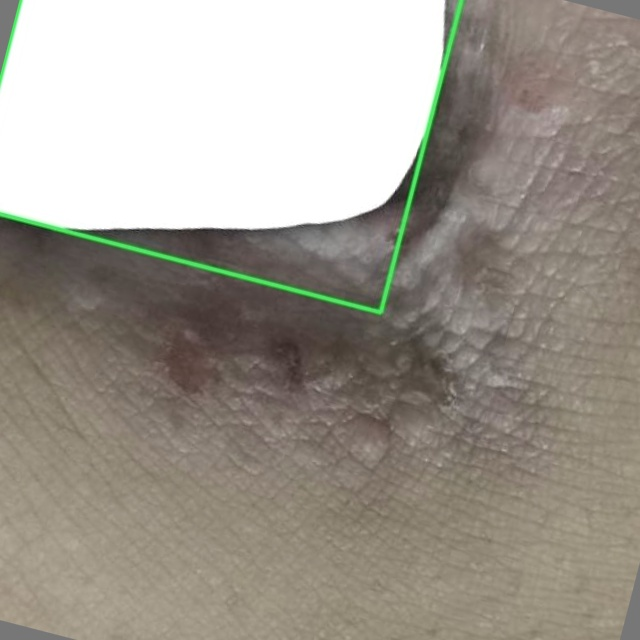Scabies: (0, 0, 461, 312)
